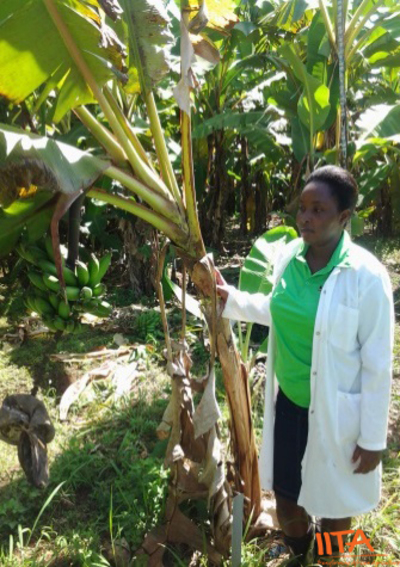bananaHand: (19, 234, 114, 340)
